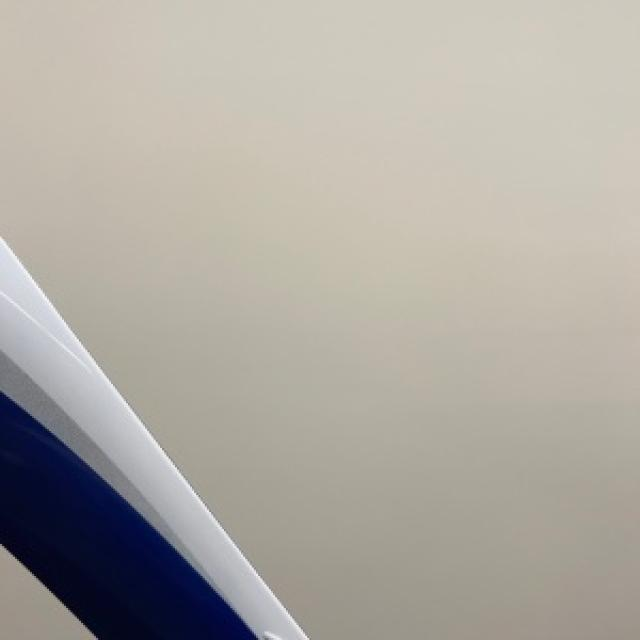healthy: (0, 237, 305, 638)
